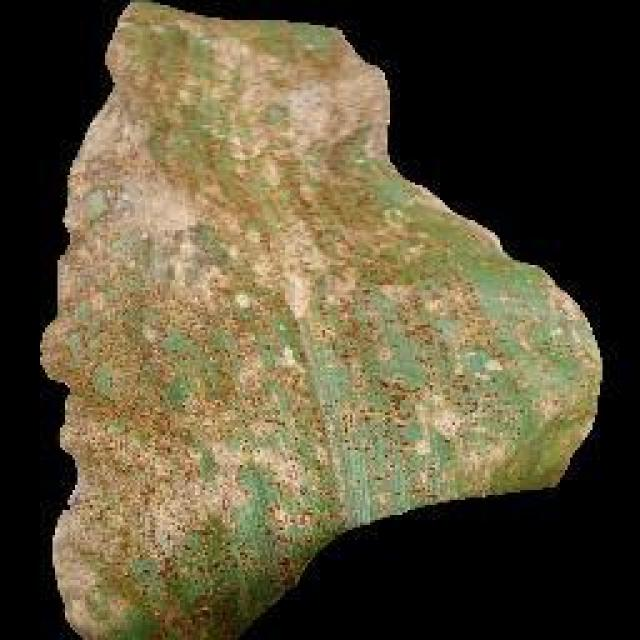Corn Common Rust: (109, 65, 514, 557)
